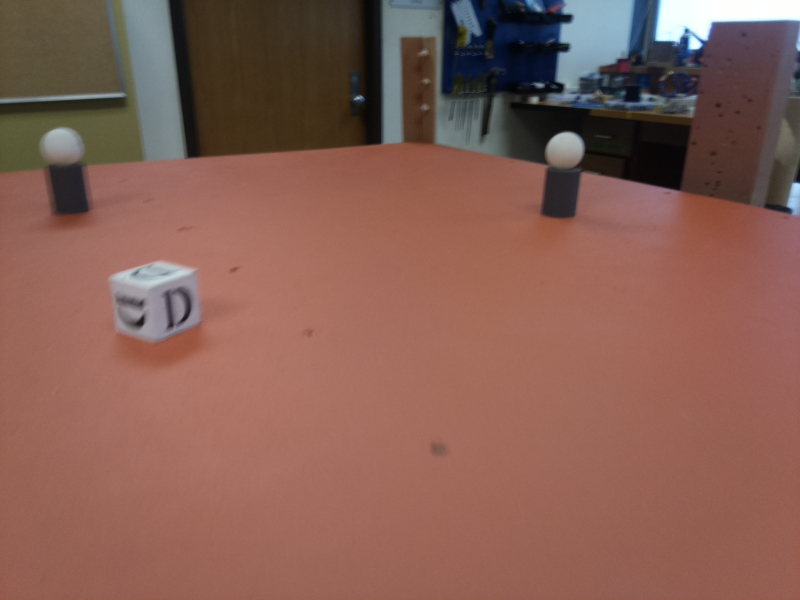blockD: (116, 259, 203, 345)
corner: (401, 39, 435, 143)
obstacle: (43, 125, 92, 215), (542, 130, 582, 215)
